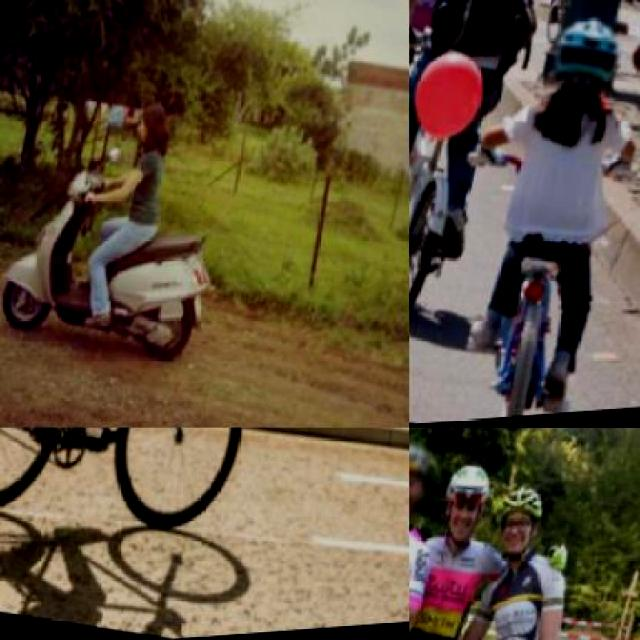With Helmet: (542, 12, 630, 113), (432, 460, 499, 562), (488, 485, 554, 569), (409, 438, 438, 536)
Without Helmet: (127, 101, 171, 156)
